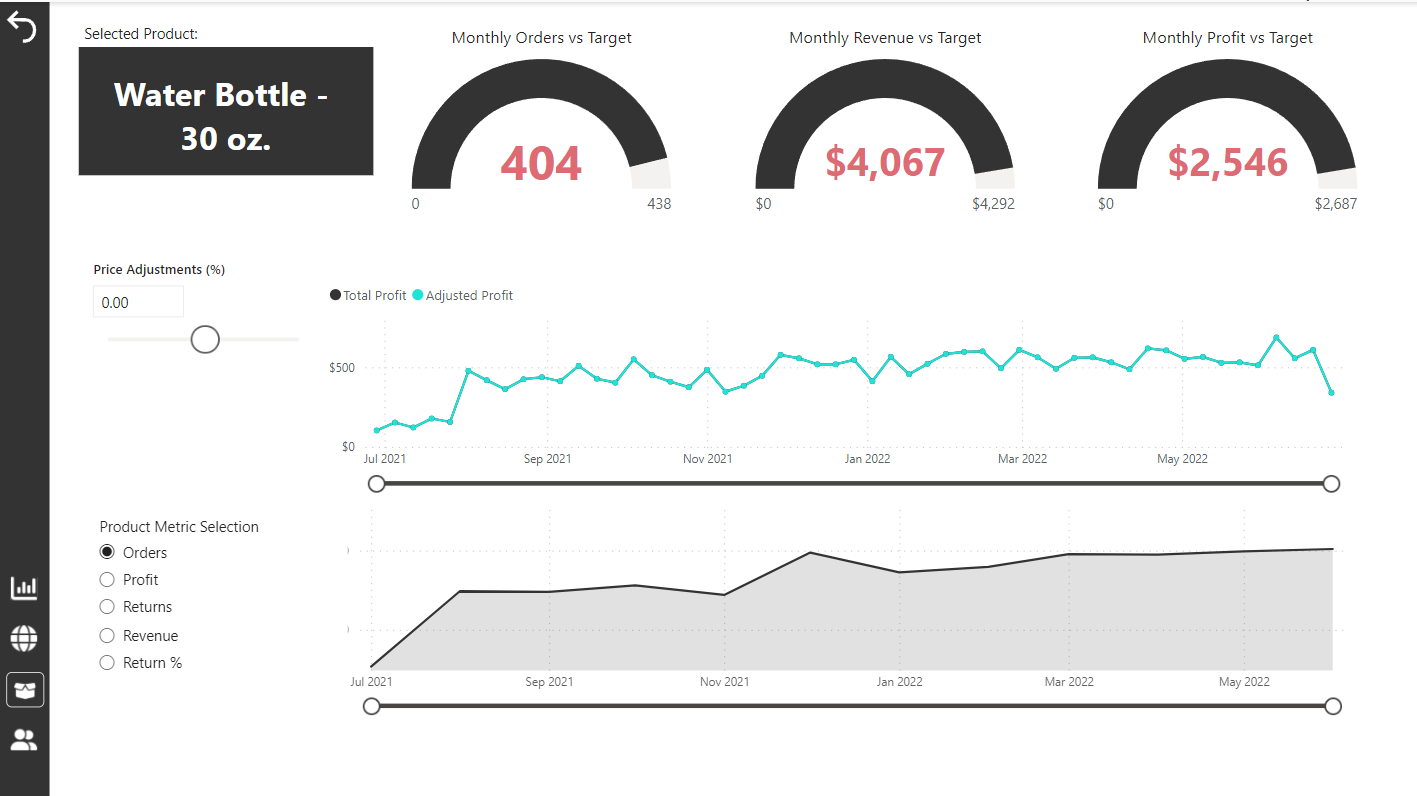

What the dashboard file says about the page in this screenshot:
{"tool":"powerbi","page":{"name":"Product Page","canvas":[1280,720],"ordinal":2},"visuals":[{"type":"shape","box":[0,0,45,720],"z":0},{"type":"actionButton","box":[6.2,514.8,34.3,32],"z":0,"group":"g1"},{"type":"actionButton","box":[6.2,652.1,34.3,32],"z":500,"group":"g1"},{"type":"gauge","title":"Monthly Orders vs Target","fields":{"Y":["Measure Table.Total Orders(PP)"],"MaxValue":["Measure Table.Order Target(PP)"]},"box":[367.1,21.1,244.7,185.5],"z":1000},{"type":"actionButton","box":[6.2,560.6,34.3,32],"z":1000,"group":"g1"},{"type":"gauge","title":"Monthly Revenue vs Target","fields":{"Y":["Measure Table.Total Revenue(PP)"],"MaxValue":["Measure Table.Revenue Target(PP)"]},"box":[677.6,21.1,244.7,185.5],"z":2000},{"type":"actionButton","box":[6.2,606.3,34.3,32],"z":2000,"group":"g1"},{"type":"gauge","title":"Monthly Profit vs Target","fields":{"Y":["Measure Table.Total Profit(PP)"],"MaxValue":["Measure Table.Profit Target(PP)"]},"box":[988.2,21.1,244.7,185.5],"z":3000},{"type":"lineChart","title":"Profit Trend","fields":{"Category":["Calendar Lookup.Date Hierarchy.Year","Calendar Lookup.Date Hierarchy.Start of Quarter","Calendar Lookup.Date Hierarchy.Start of Month","Calendar Lookup.Date Hierarchy.Start of Week"],"Y":["Measure Table.Total Profit","Measure Table.Adjusted Profit"]},"box":[292.7,245.3,940.4,201.2],"z":4000},{"type":"areaChart","title":"Returns Trend","fields":{"Category":["Calendar Lookup.Date Hierarchy.Year","Calendar Lookup.Date Hierarchy.Start of Quarter","Calendar Lookup.Date Hierarchy.Start of Month","Calendar Lookup.Date Hierarchy.Start of Week"],"Y":["Measure Table.Total Orders"]},"box":[292.7,446.5,941.5,201.2],"z":5000},{"type":"card","fields":{"Values":["Min(Product Lookup.ProductName)"]},"box":[71,40.2,266.3,116],"z":6000},{"type":"textbox","box":[71,14.2,249.7,32],"z":7000},{"type":"group","id":"g1","title":"Nav Buttons","box":[6.2,514.8,34.3,169.2],"z":8000},{"type":"slicer","fields":{"Values":["Price Adjustments (%).Price Adjustments (%)"]},"box":[71.2,228.3,221.5,144.7],"z":9000},{"type":"actionButton","box":[0,2.3,45.2,39.6],"z":10000},{"type":"slicer","fields":{"Values":["Product Metric Selection.Product Metric Selection"]},"box":[76.9,460,237.4,208],"z":10001}]}

Visuals, with their boxes on the page's 1280x720 design canvas (x1, y1, x2, y2). These are canvas units, not pixel positions in the 1417x796 screenshot, which may show the page scaled, cropped or inside an application window:
shape: box(0, 0, 45, 720)
actionButton: box(6, 515, 40, 547)
actionButton: box(6, 652, 40, 684)
"Monthly Orders vs Target" gauge: box(367, 21, 612, 207)
actionButton: box(6, 561, 40, 593)
"Monthly Revenue vs Target" gauge: box(678, 21, 922, 207)
actionButton: box(6, 606, 40, 638)
"Monthly Profit vs Target" gauge: box(988, 21, 1233, 207)
"Profit Trend" lineChart: box(293, 245, 1233, 446)
"Returns Trend" areaChart: box(293, 446, 1234, 648)
card - Min(Product Lookup.ProductName): box(71, 40, 337, 156)
textbox: box(71, 14, 321, 46)
"Nav Buttons" group: box(6, 515, 40, 684)
slicer - Price Adjustments (%).Price Adjustments (%): box(71, 228, 293, 373)
actionButton: box(0, 2, 45, 42)
slicer - Product Metric Selection.Product Metric Selection: box(77, 460, 314, 668)
